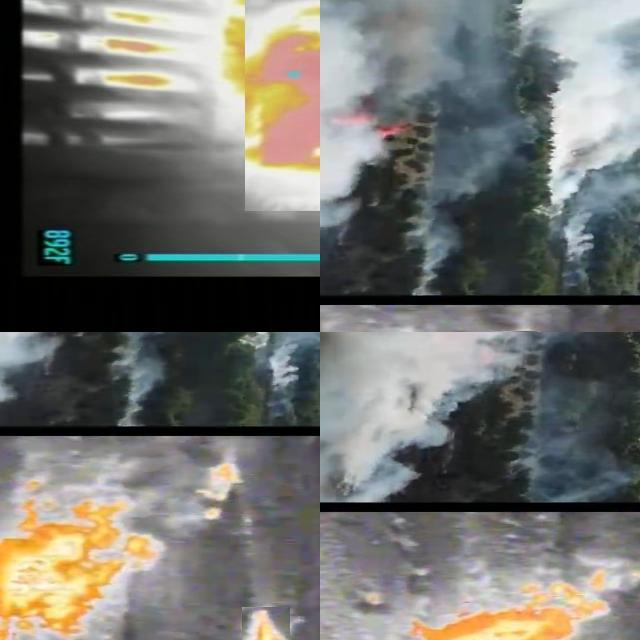fire: (1, 496, 164, 638), (411, 586, 575, 640), (578, 546, 640, 624), (195, 462, 245, 522), (243, 607, 291, 640), (371, 125, 413, 140)
